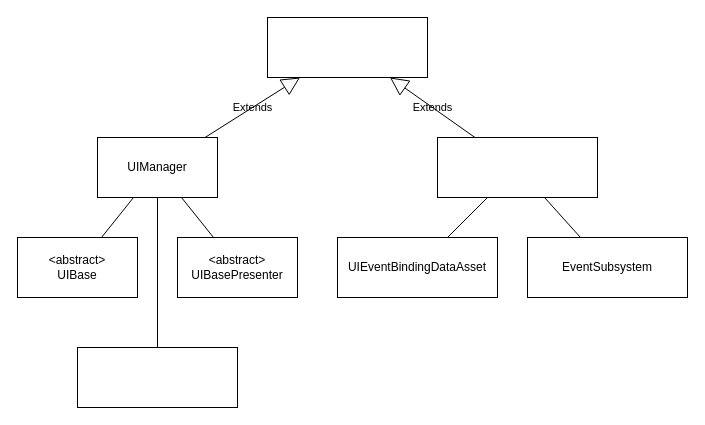
Some shapes in this 705 by 425 pixel diagram are drawn without their labels. The centre of each missing label's shape, as x and y in pixels:
UIOrchestratorSubsystem: pixel 517 167
UIPresentBindingDataAsset: pixel 157 377
ULocalPlayerSubsystem: pixel 347 47
